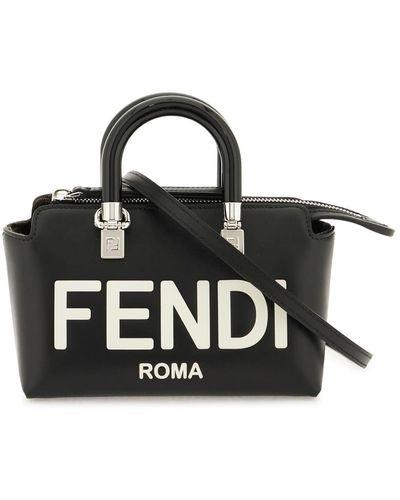FENDI: (53, 279, 287, 350)
